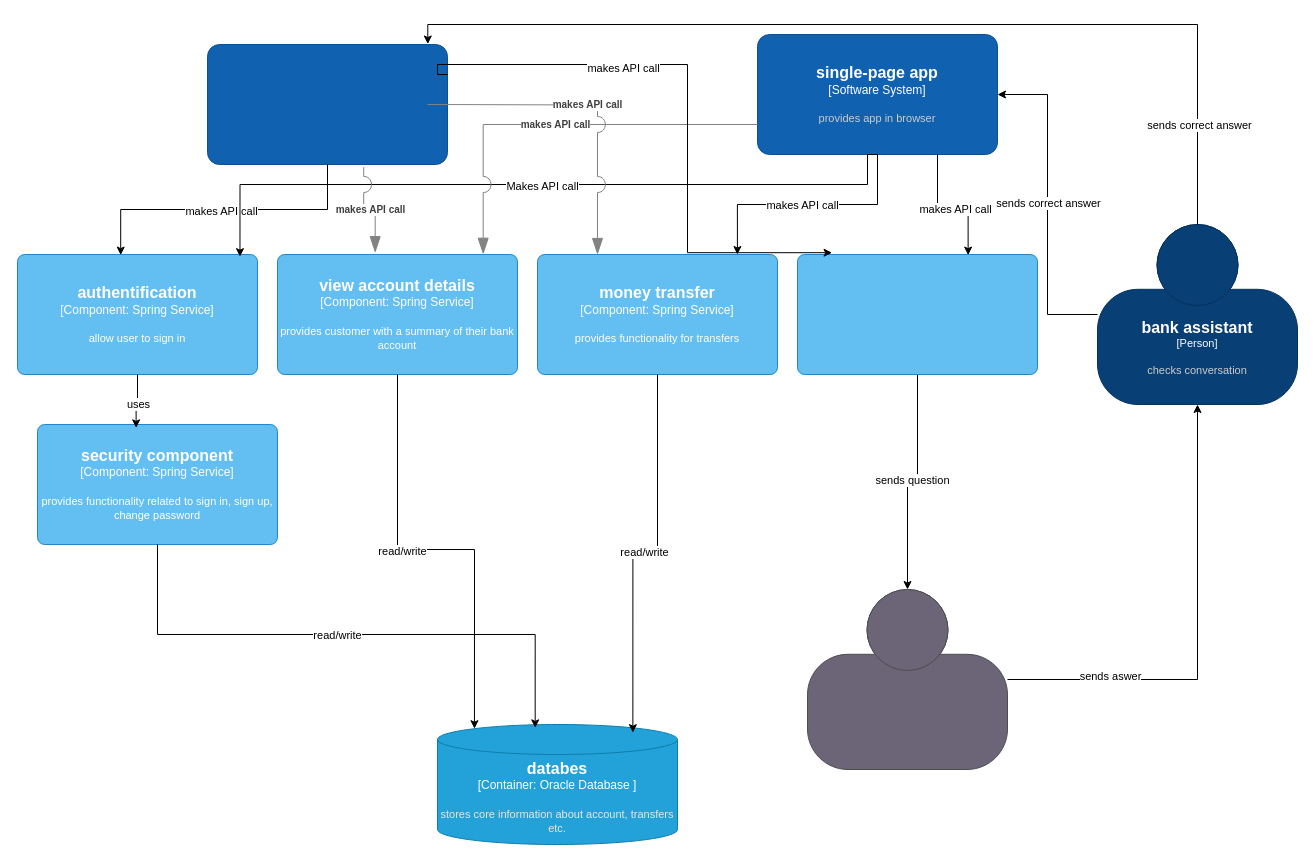
This 1315x862 diagram has some shape labels left out. The shapes that lost their labels are listed below. From the top down, each one's centre as x and y in pixels, then its label:
(327,104): mobile app [Software System] provides app in mobile
(917,314): ask smart assistant [Component: Spring Service] allows customer to ask questions
(907,679): AI assistant [Entity] Conversation with customer
